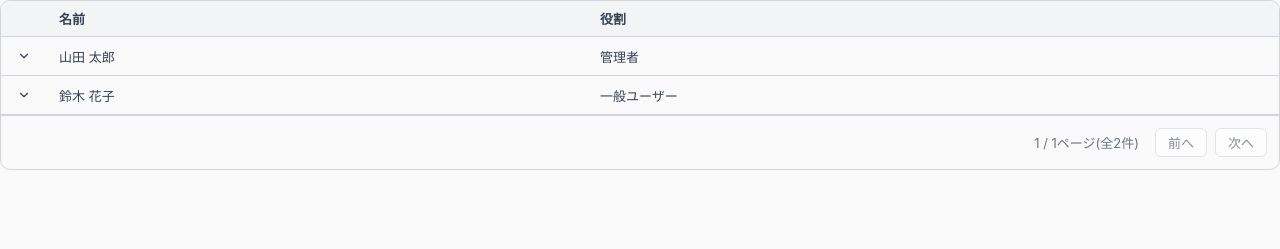
Test: Table › toggles a row detail open/closed via aria-expanded, rendering renderDetail below the row
Step 1. Click the button with test id "table-expand-1" → (24, 56), box [13,45,35,67]
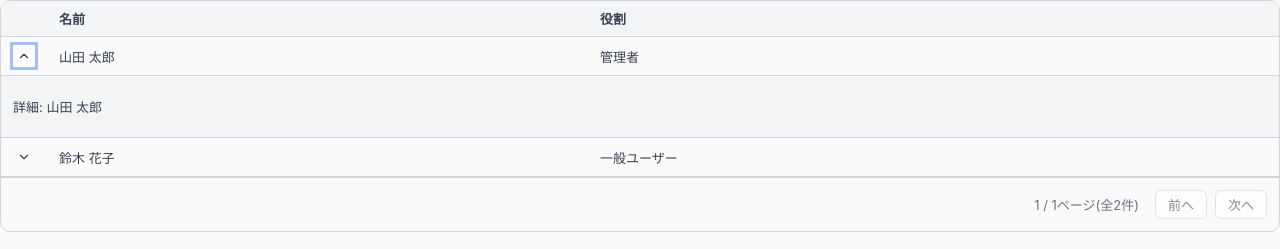
Now the button with test id "table-expand-1" is expanded
Now the row with test id "table-detail-row-1" reads "詳細: 山田 太郎", box [1,76,1279,138]
Step 2. Click the button with test id "table-expand-1" → (24, 56), box [13,45,35,67]
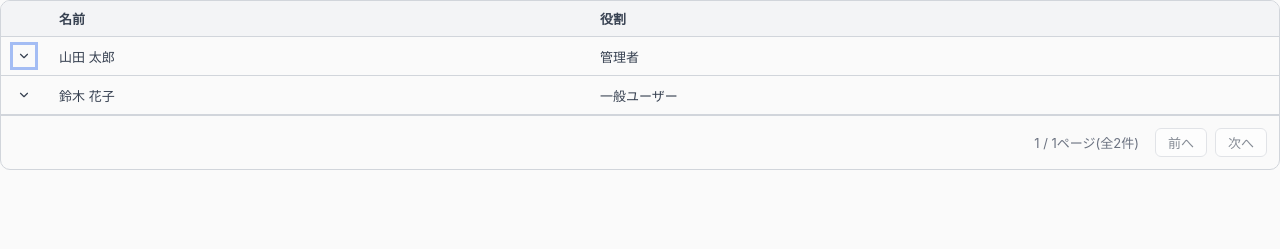
Now the button with test id "table-expand-1" is collapsed, box [13,45,35,67]
Now the row with test id "table-detail-row-1" is gone
